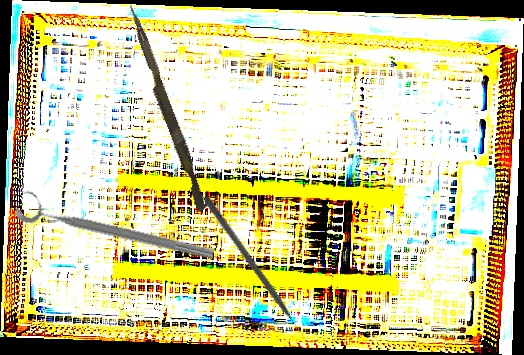Fixation Ring: (13, 187, 219, 266)
Pusher: (119, 3, 213, 212), (200, 194, 309, 343)
